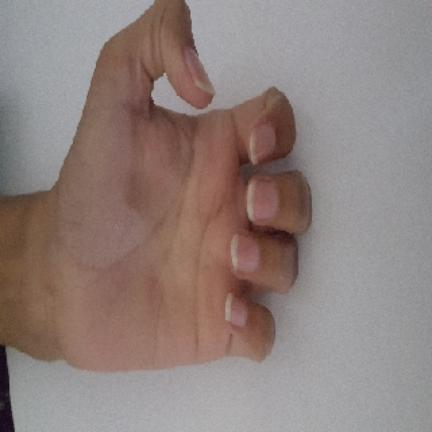Nail: (183, 48, 215, 95), (247, 180, 279, 224), (230, 234, 260, 273), (250, 124, 276, 164), (226, 293, 248, 328)
